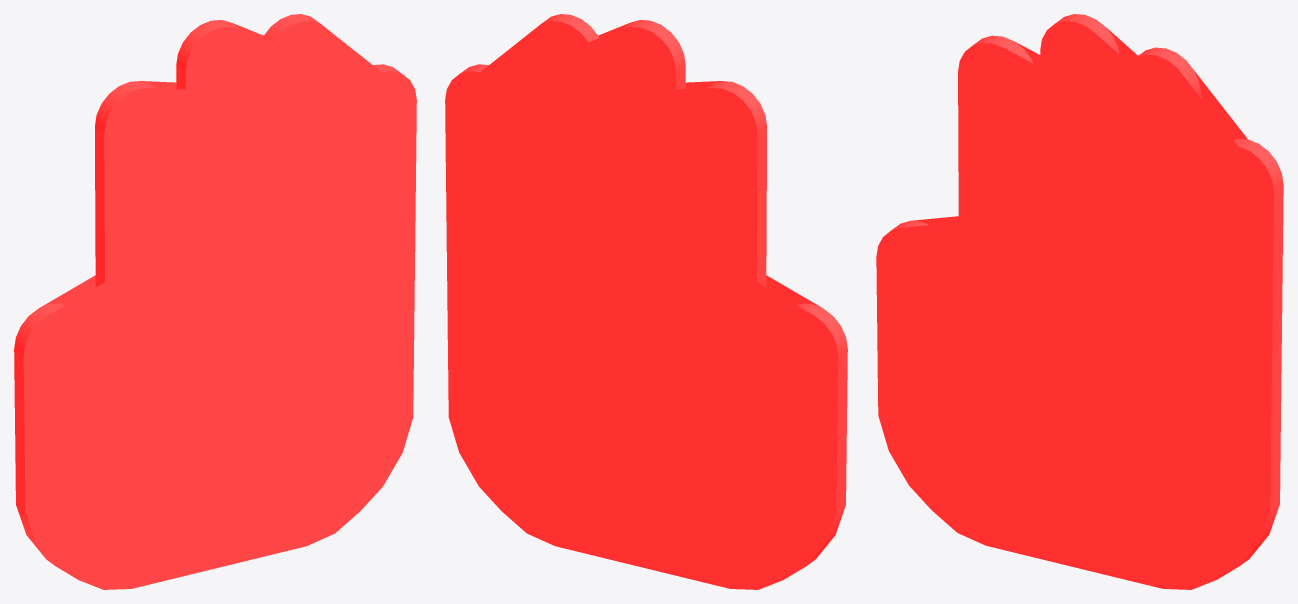
File: Stophand_R01.fbx
3 renders of one model, left to right at view 1: azimuth 30°, elevation 25°; view 2: azimuth 150°, elevation 25°; view 3: azimuth 330°, elevation 25°, orthographic.
Visible parts, largest first — view 1: pCylinder3; view 2: pCylinder3; view 3: pCylinder3.
Part boxes in pixels (box(x1,y1,x2,y2)): pCylinder3: box(14, 14, 416, 589); pCylinder3: box(445, 14, 847, 589); pCylinder3: box(876, 14, 1283, 589).
Size of the model in its own units: 7.05 by 9.25 by 0.2955.
